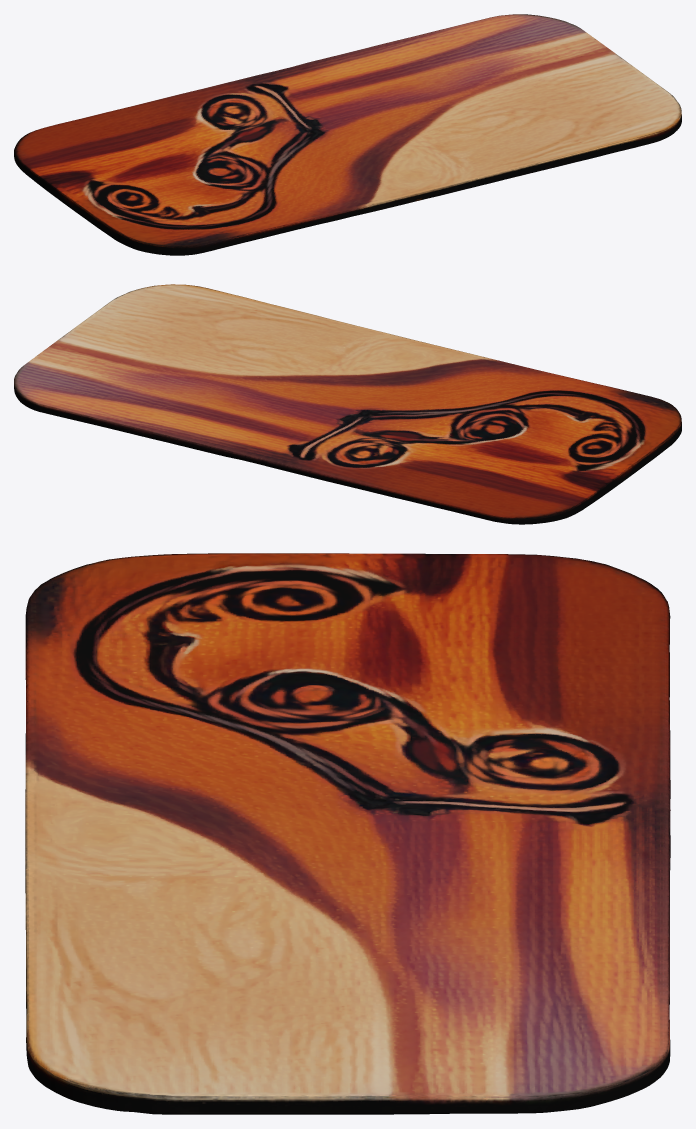
The model's file is wooden-tie-clip-vintage.jpeg.glb.
The picture shows the model from 3 angles, top to bottom: view 1: azimuth 30°, elevation 25°; view 2: azimuth 150°, elevation 25°; view 3: azimuth 270°, elevation 25°; orthographic projection. The views are drawn at different scales.
Visible parts, largest first — view 1: world; view 2: world; view 3: world.
Part boxes in pixels (x1,y1,x2,y2): world: (14, 14, 681, 255); world: (14, 284, 681, 524); world: (25, 553, 670, 1114).
Size of the model in its own units: 1 by 0.0168 by 0.5006.
Materials: 1 (1 with a texture image).
